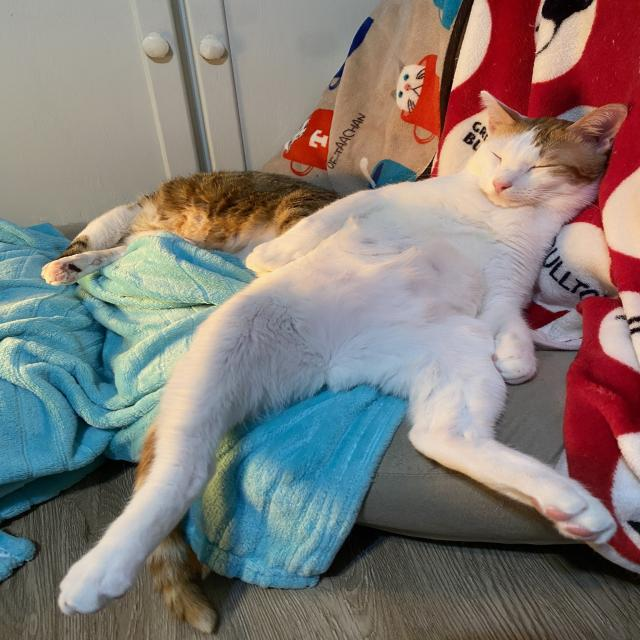cat1: (52, 99, 635, 615)
cat2: (41, 171, 350, 285)
